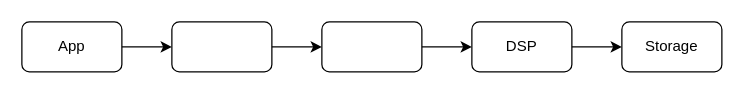
The diagram is 744 pixels wide and 94 high, and some of its shapes have lost their labels. The box of each missing label's shape, as (x1, y1, x2, y2) in pixels:
Runtime: (321, 21, 422, 72)
Studio: (171, 21, 272, 72)
